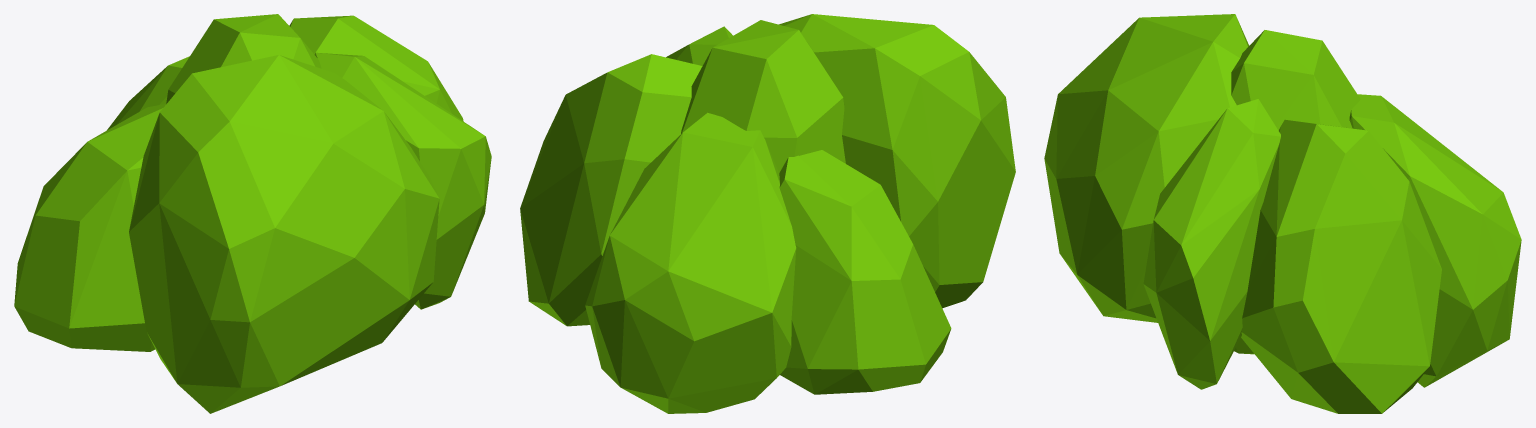
Rendered from Bush_04.fbx.
3 renders of one model, left to right at view 1: azimuth 30°, elevation 25°; view 2: azimuth 150°, elevation 25°; view 3: azimuth 270°, elevation 25°, orthographic. The views are drawn at different scales.
Visible parts, largest first — view 1: Bush_04; view 2: Bush_04; view 3: Bush_04.
Boxes of the visible parts, x1,y1,x2,y2 form: Bush_04: (14, 14, 491, 413); Bush_04: (520, 14, 1015, 413); Bush_04: (1044, 14, 1521, 413).
Size of the model in its own units: 113 by 85.01 by 112.
